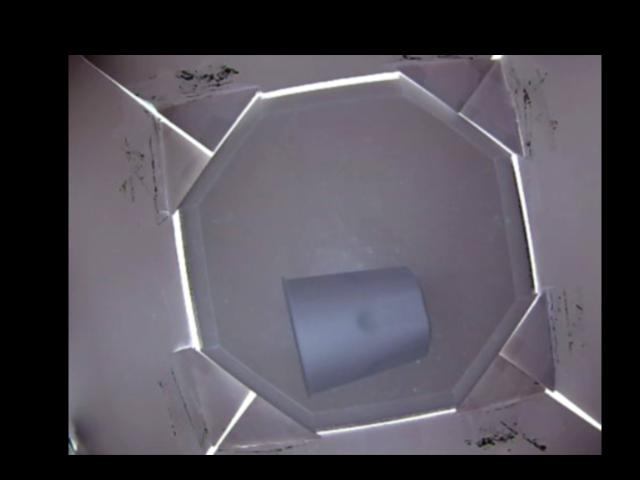Cup: (283, 264, 432, 400)
